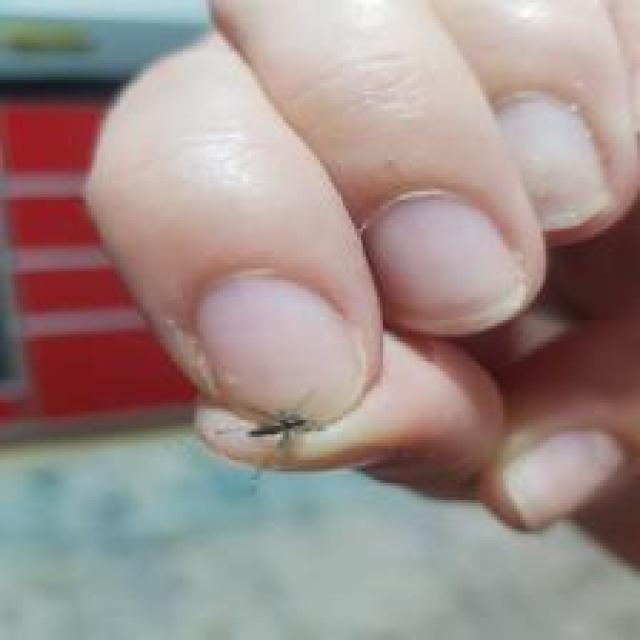Aedes albopictus: (246, 408, 320, 443)
